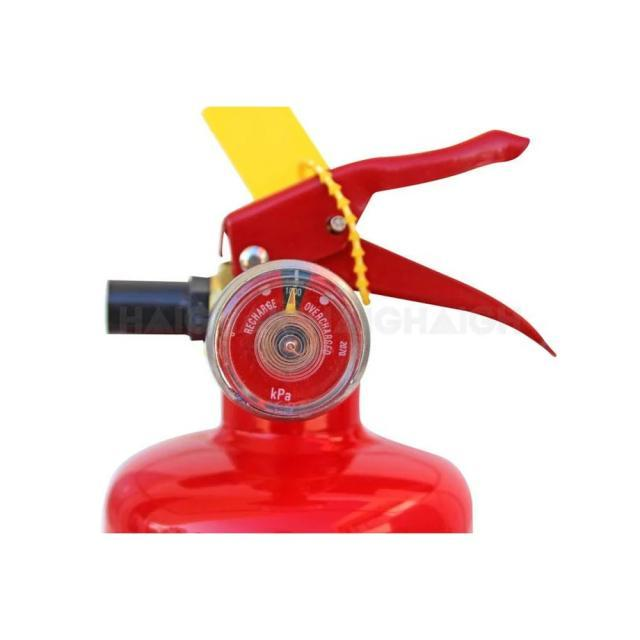pressure gauge: (207, 260, 367, 418)
